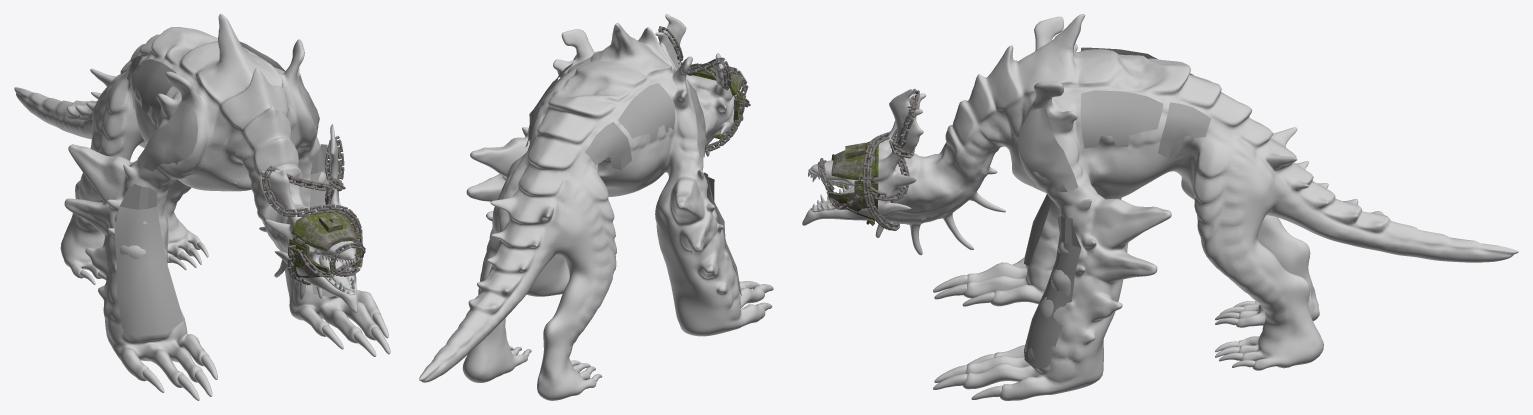
Rendered from EnMD_Boss_241206.fbx.
3 views of the same model, side by side, from view 1: azimuth 30°, elevation 25°; view 2: azimuth 150°, elevation 25°; view 3: azimuth 270°, elevation 25° (orthographic). The views are drawn at different scales.
Parts seen in each view (by area): view 1: EnMD_Boss, Vines, Lock; view 2: EnMD_Boss, Vines, Lock; view 3: EnMD_Boss, Vines, Lock.
Boxes of the visible parts, x1,y1,x2,y2 form: EnMD_Boss: [14, 14, 390, 400]; Vines: [114, 41, 356, 336]; Lock: [262, 136, 365, 285]; EnMD_Boss: [419, 14, 773, 400]; Vines: [525, 54, 741, 295]; Lock: [658, 26, 750, 152]; EnMD_Boss: [802, 14, 1518, 400]; Vines: [1018, 47, 1211, 368]; Lock: [817, 88, 919, 230].
Bounding box in the file's own units: 2013 × 2415 × 4782.
